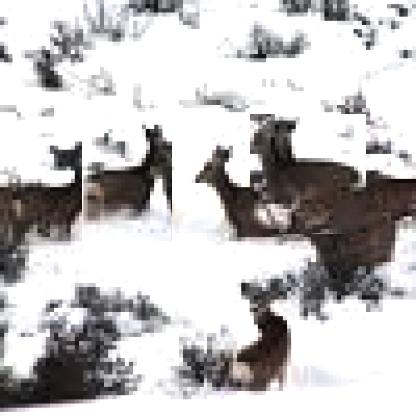Deer: (192, 142, 326, 258), (250, 114, 366, 234), (3, 137, 107, 259), (82, 120, 172, 244), (223, 274, 291, 405)
